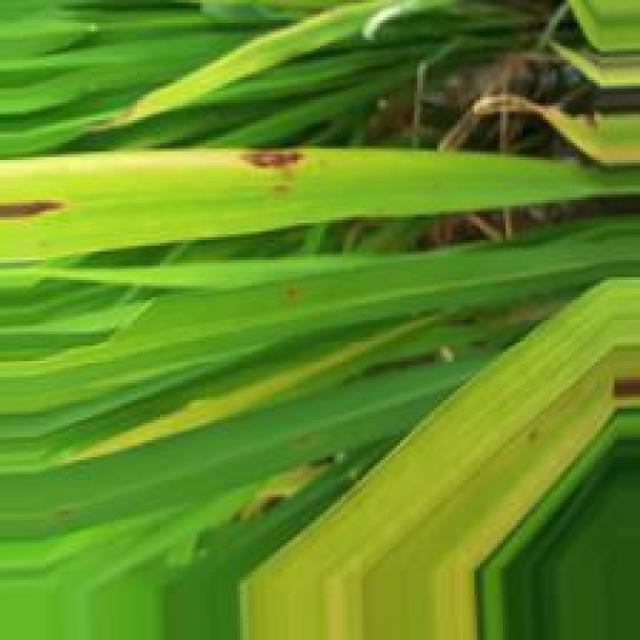Narrow_Brown_Leaf_Spot: (240, 151, 316, 174), (0, 201, 70, 219)
